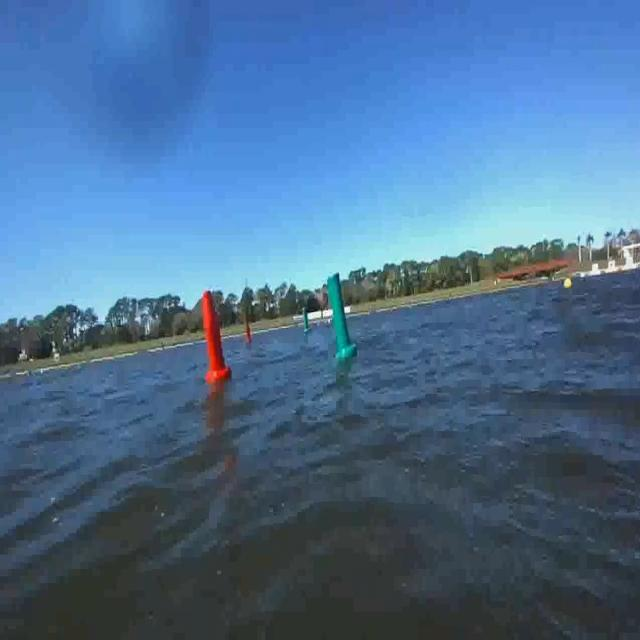green-column-buoy: (327, 272, 359, 359), (304, 310, 312, 334)
red-column-buoy: (200, 289, 232, 384), (243, 324, 251, 346)
yellow-buoy: (563, 276, 573, 292)
